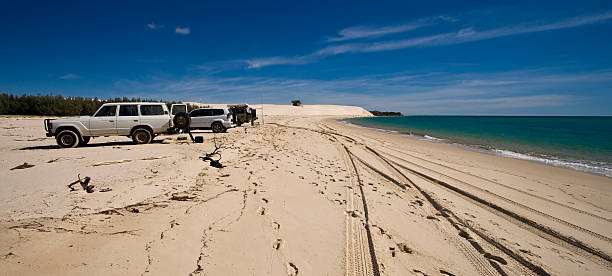vehicle_track: (399, 165, 611, 265), (385, 154, 611, 241), (382, 146, 611, 221), (342, 145, 379, 275), (441, 227, 506, 275), (275, 124, 360, 144)
